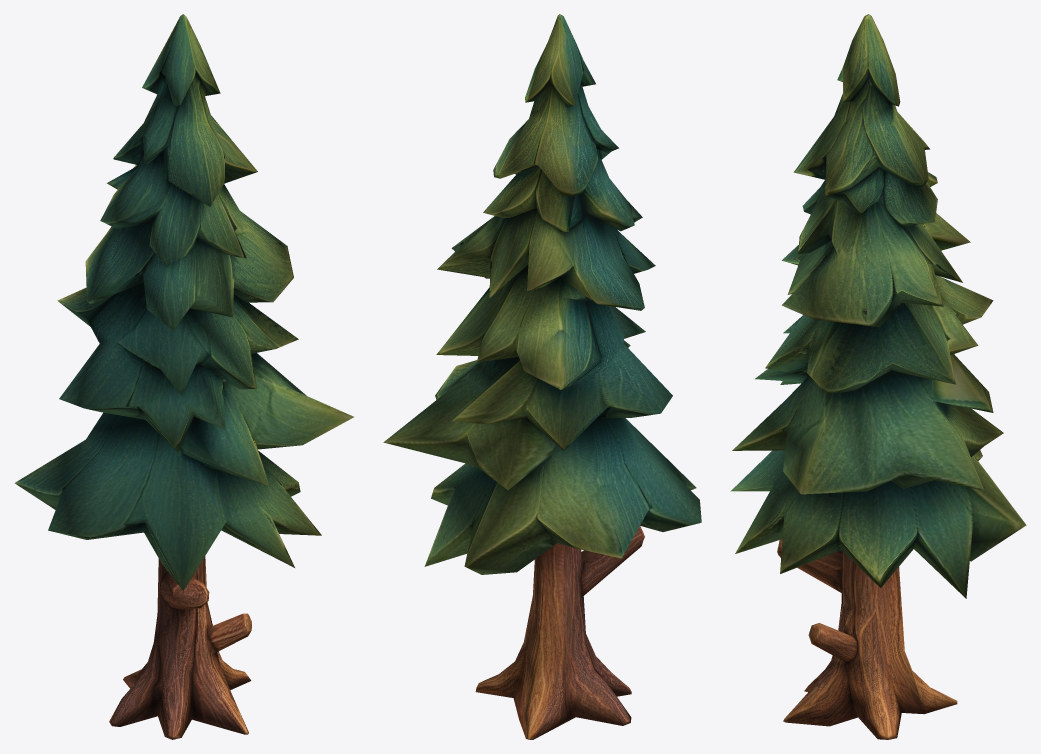
Rendered from spruce-tripo-01.glb.
3 views of the same model, side by side, from view 1: azimuth 30°, elevation 25°; view 2: azimuth 150°, elevation 25°; view 3: azimuth 270°, elevation 25° (orthographic).
Visible parts, largest first — view 1: tripo_node_9a409eee-0c86-49be-b464-47c048f8cf09; view 2: tripo_node_9a409eee-0c86-49be-b464-47c048f8cf09; view 3: tripo_node_9a409eee-0c86-49be-b464-47c048f8cf09.
Boxes of the visible parts, x1,y1,x2,y2 form: tripo_node_9a409eee-0c86-49be-b464-47c048f8cf09: (14, 14, 353, 739); tripo_node_9a409eee-0c86-49be-b464-47c048f8cf09: (383, 14, 701, 739); tripo_node_9a409eee-0c86-49be-b464-47c048f8cf09: (730, 14, 1026, 739).
Bounding box in the file's own units: 0.416 × 0.998 × 0.3848.
1 material, 1 textured.
